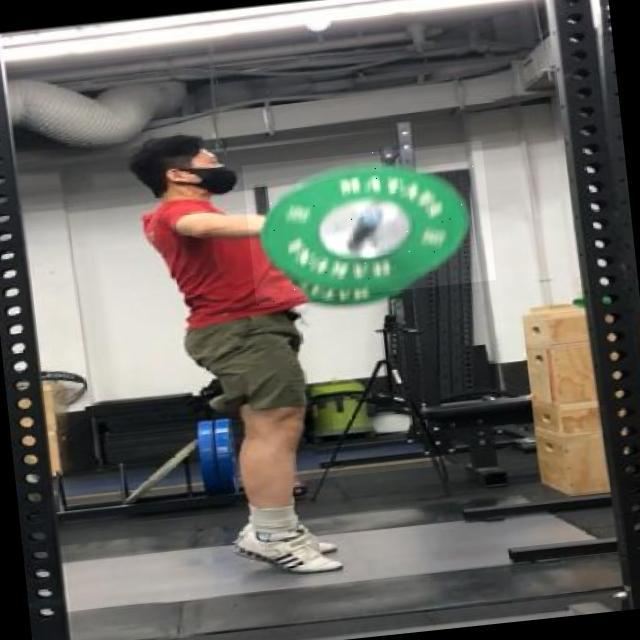barbell: (243, 142, 497, 306)
